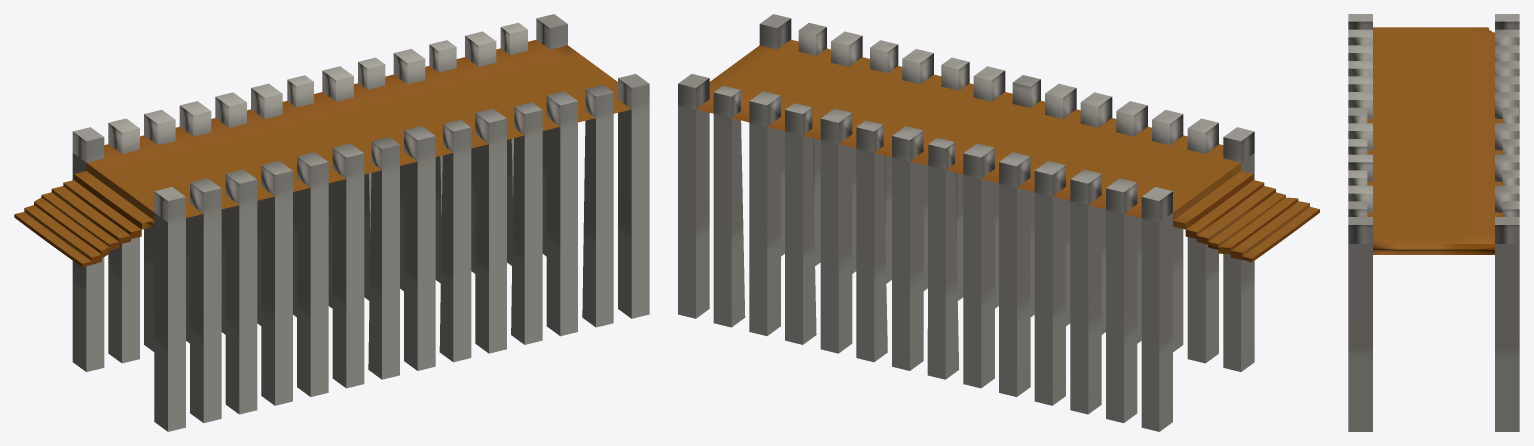
The model's file is PuertoBien 1.fbx.
The picture shows the model from 3 angles, left to right: view 1: azimuth 30°, elevation 25°; view 2: azimuth 150°, elevation 25°; view 3: azimuth 270°, elevation 25°; orthographic projection. The views are drawn at different scales.
Visible parts, largest first — view 1: Plane.001; view 2: Plane.001; view 3: Plane.001.
Part boxes in pixels (x1,y1,x2,y2): Plane.001: (14, 14, 649, 431); Plane.001: (678, 14, 1319, 431); Plane.001: (1348, 14, 1519, 431).
Size of the model in its own units: 1307 by 517 by 387.
2 materials, 2 textured.
